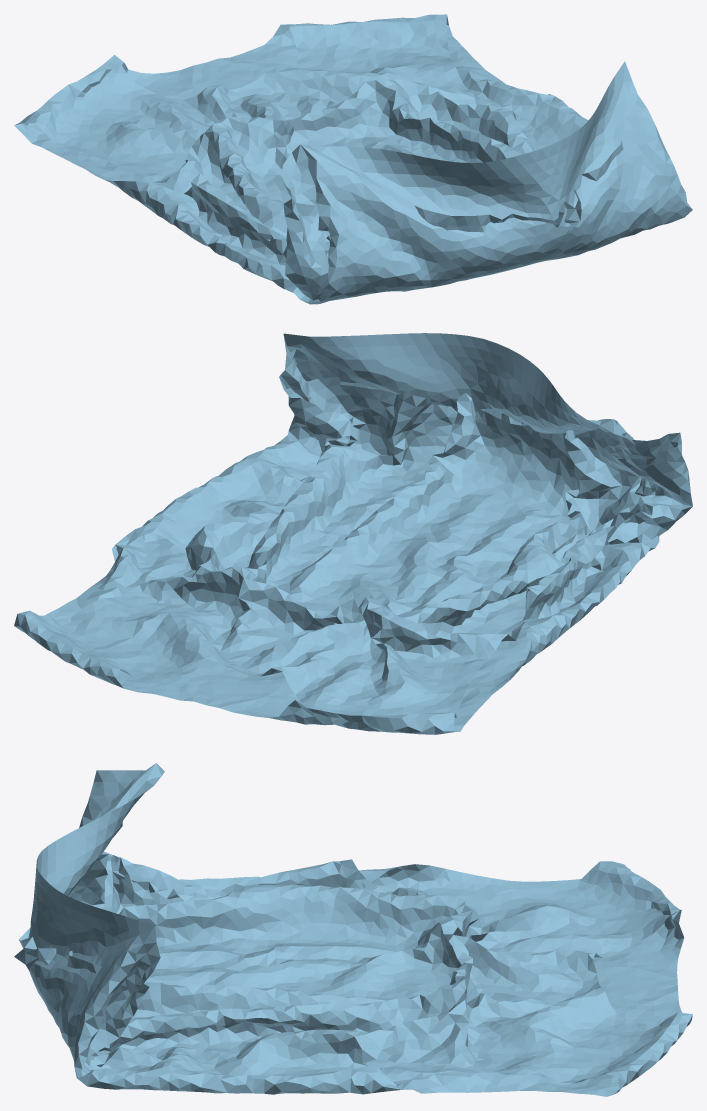
The model's file is frame_08.glb.
The picture shows the model from 3 angles, top to bottom: view 1: azimuth 30°, elevation 25°; view 2: azimuth 150°, elevation 25°; view 3: azimuth 270°, elevation 25°; orthographic projection. The views are drawn at different scales.
Parts seen in each view (by area): view 1: frame_08.obj; view 2: frame_08.obj; view 3: frame_08.obj.
Part boxes in pixels (x1,y1,x2,y2): frame_08.obj: (14,14,692,304); frame_08.obj: (14,333,692,734); frame_08.obj: (14,763,692,1096).
Bounding box in the file's own units: 1.24 × 0.4025 × 1.59.
